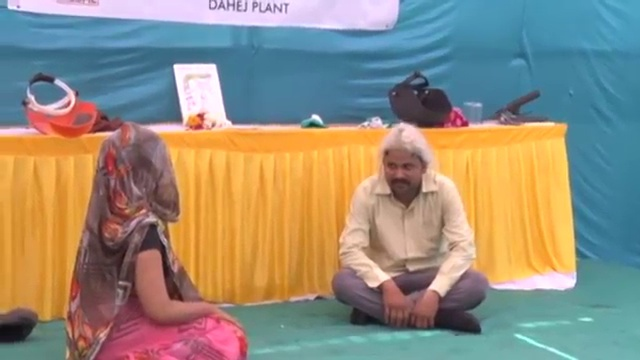helmet_off: (93, 125, 181, 221), (380, 126, 431, 197)
person: (63, 122, 250, 360), (325, 122, 491, 336)
